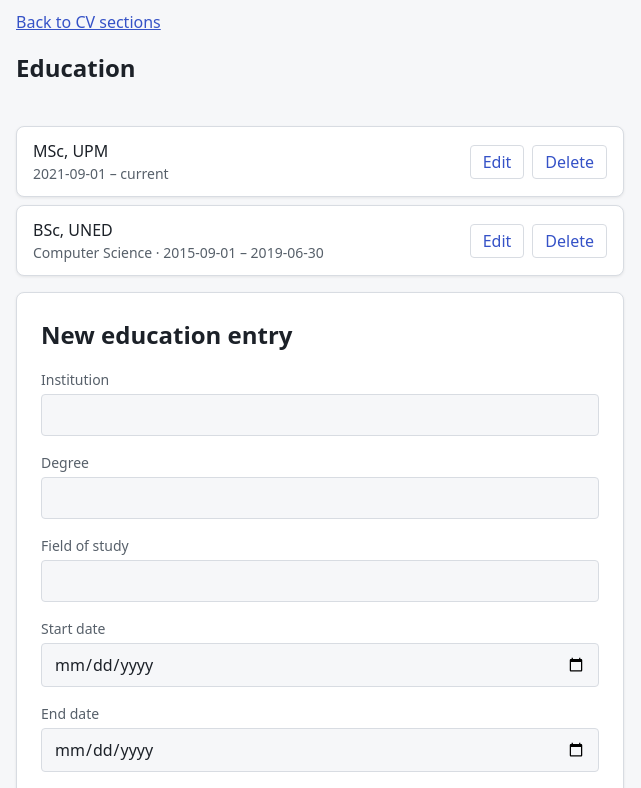
Test: EducationsPage › deletes with DELETE and drops the row
Click the button with aria-label "Delete MSc, UPM" at (570, 162), box top-left (532, 144), bottom-right (607, 178)
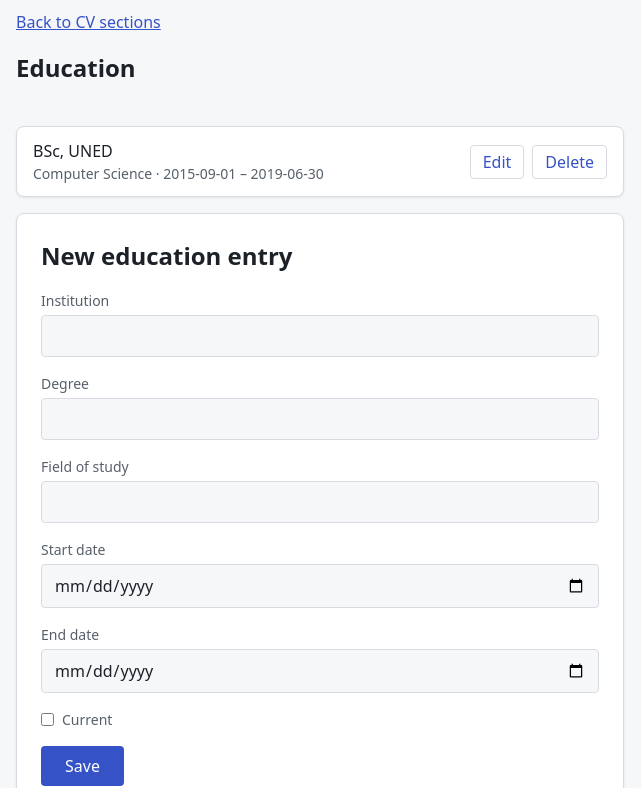
Result: the text "MSc, UPM" is gone
